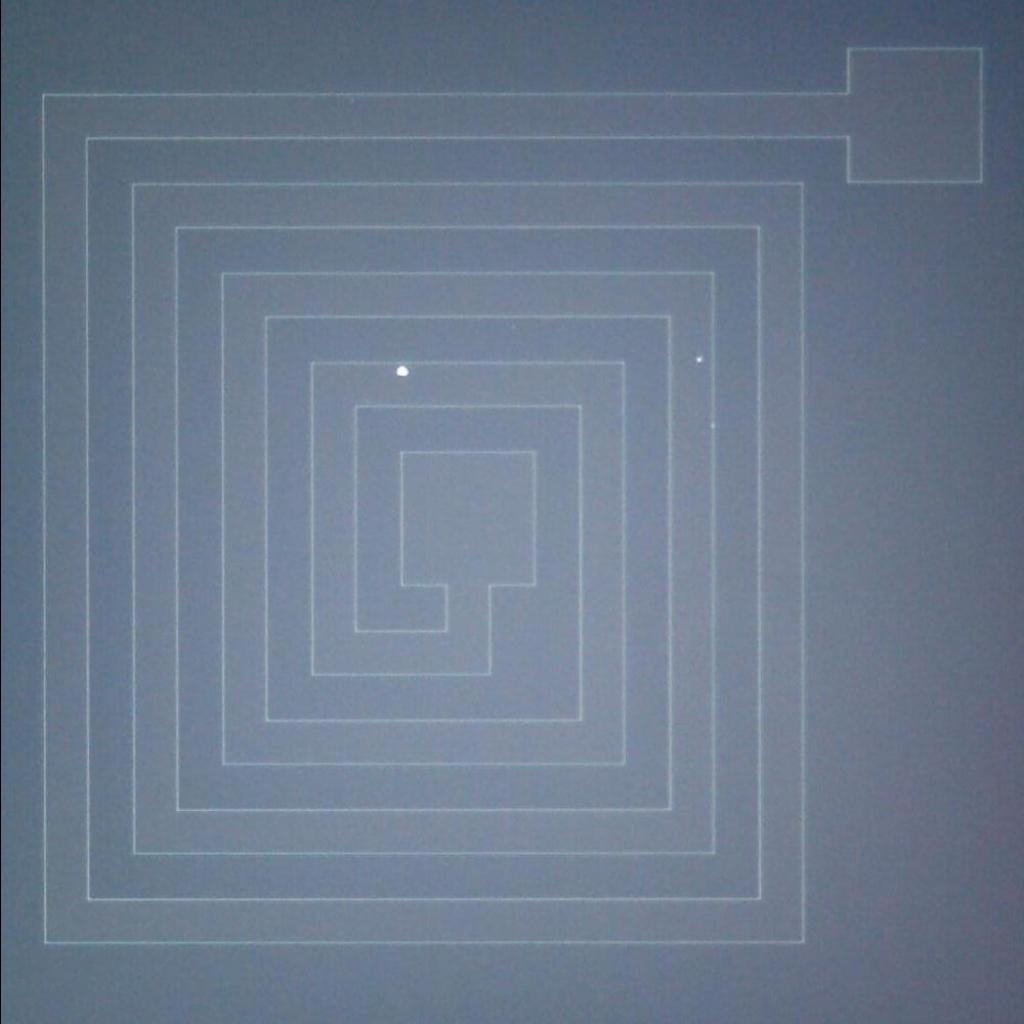dot: (682, 346, 712, 376)
spot: (388, 358, 420, 387)
